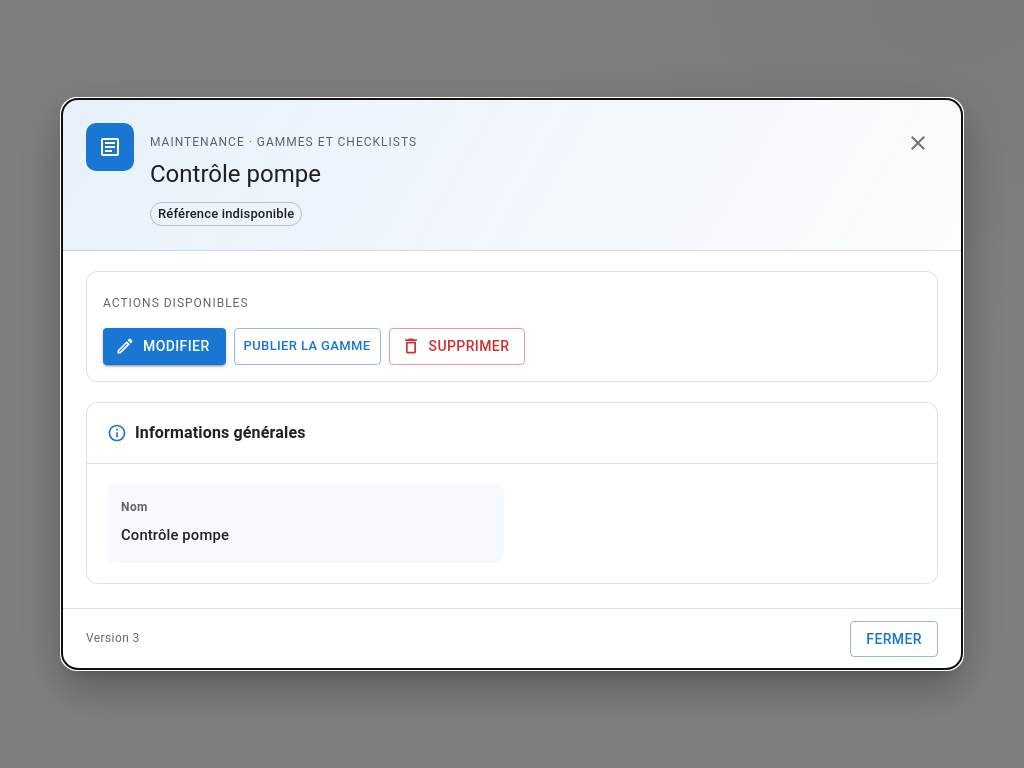
Test: Suppression des gammes › conserve la fiche et affiche le refus du serveur en cas de conflit de version
The width and height of the screenshot is (1024, 768).
What coordinates should you click on to do the following:
click the button "Supprimer"
I would click on:
 (457, 346)
Its box is [389, 328, 525, 364].
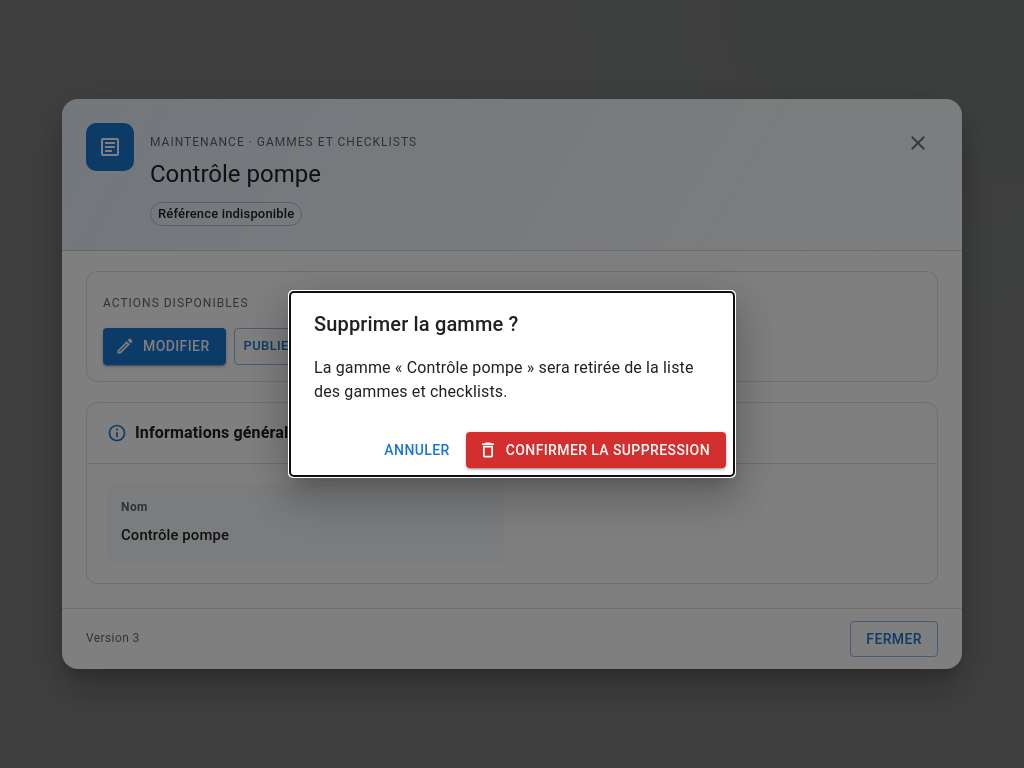
What coordinates should you click on to do the following:
click the button "Confirmer la suppression"
I would click on:
 (596, 450)
Its box is [466, 432, 726, 468].
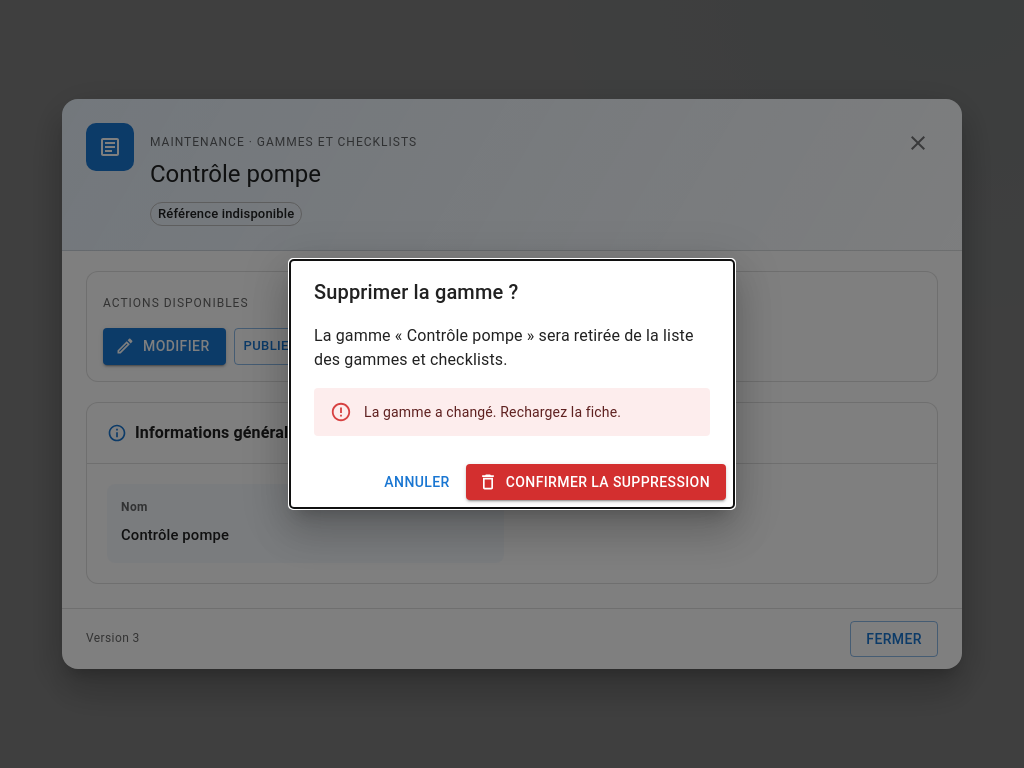
Now the message reads "La gamme a changé. Rechargez la fiche.", box [364, 404, 621, 420]
